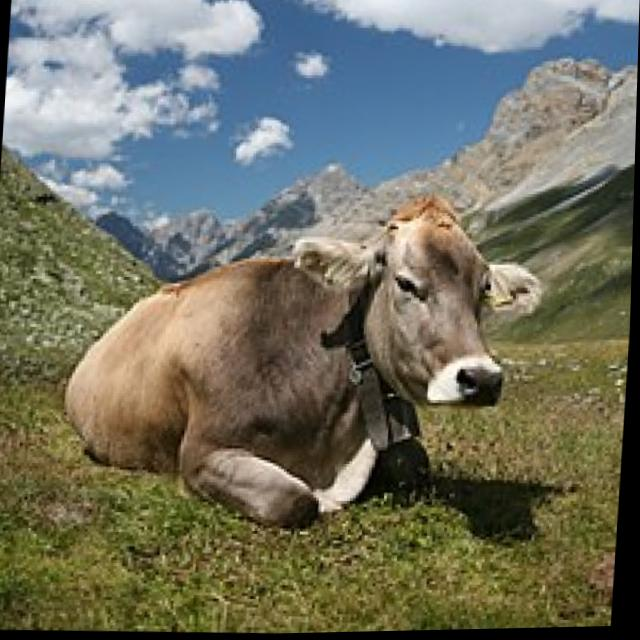cowFace: (280, 190, 557, 425)
